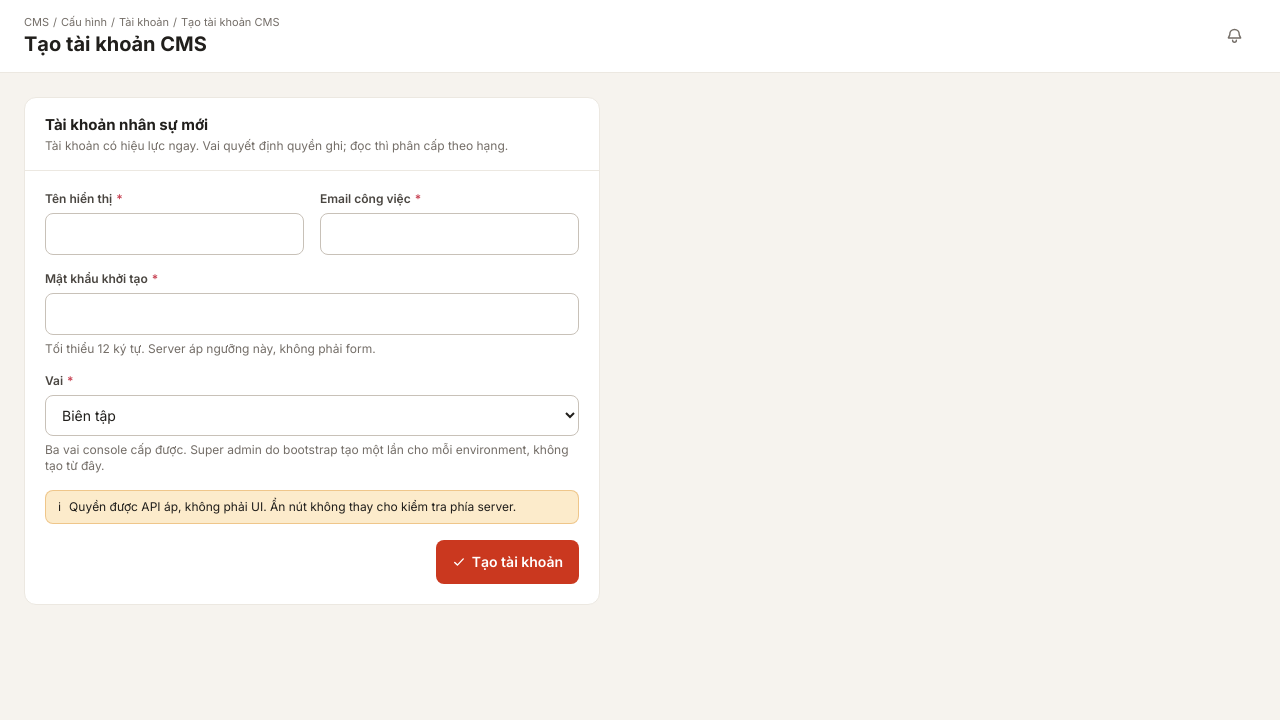
it: NewAccountScreen (CMS-020) › holds a short password at the form before it reaches the server
In the field labelled "Tên hiển thị*": (174, 234) x1=45 y1=213 x2=304 y2=255, type "Vy Vo"
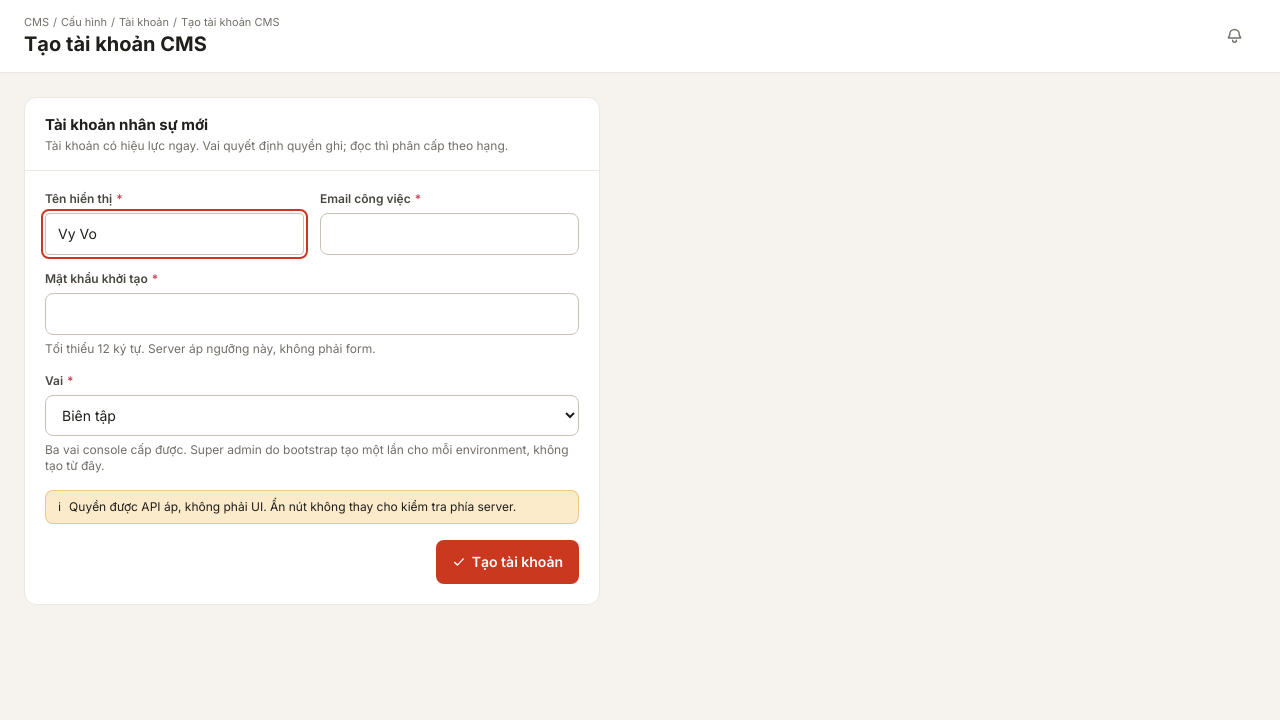
In the field labelled "Email công việc*": (450, 234) x1=320 y1=213 x2=579 y2=255, type "vy.vo@gogo.vn"
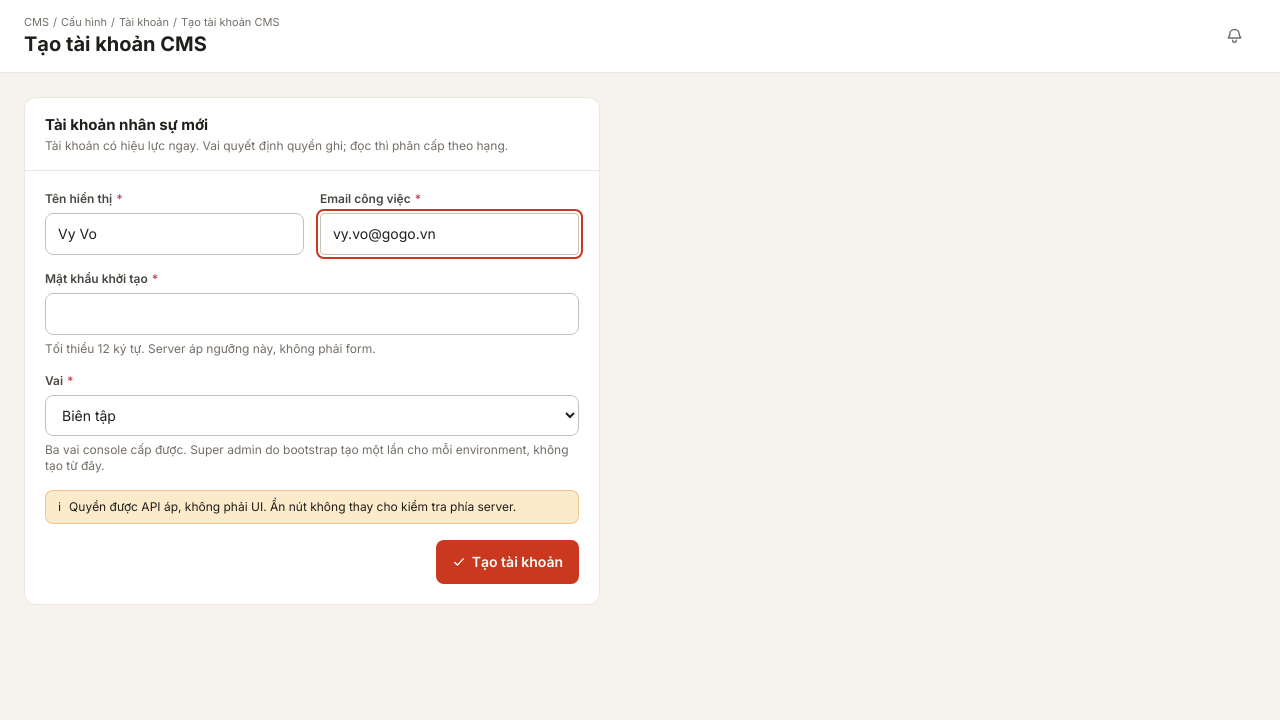
In the password field labelled "Mật khẩu khởi tạo*": (312, 314) x1=45 y1=293 x2=579 y2=335, type "short"
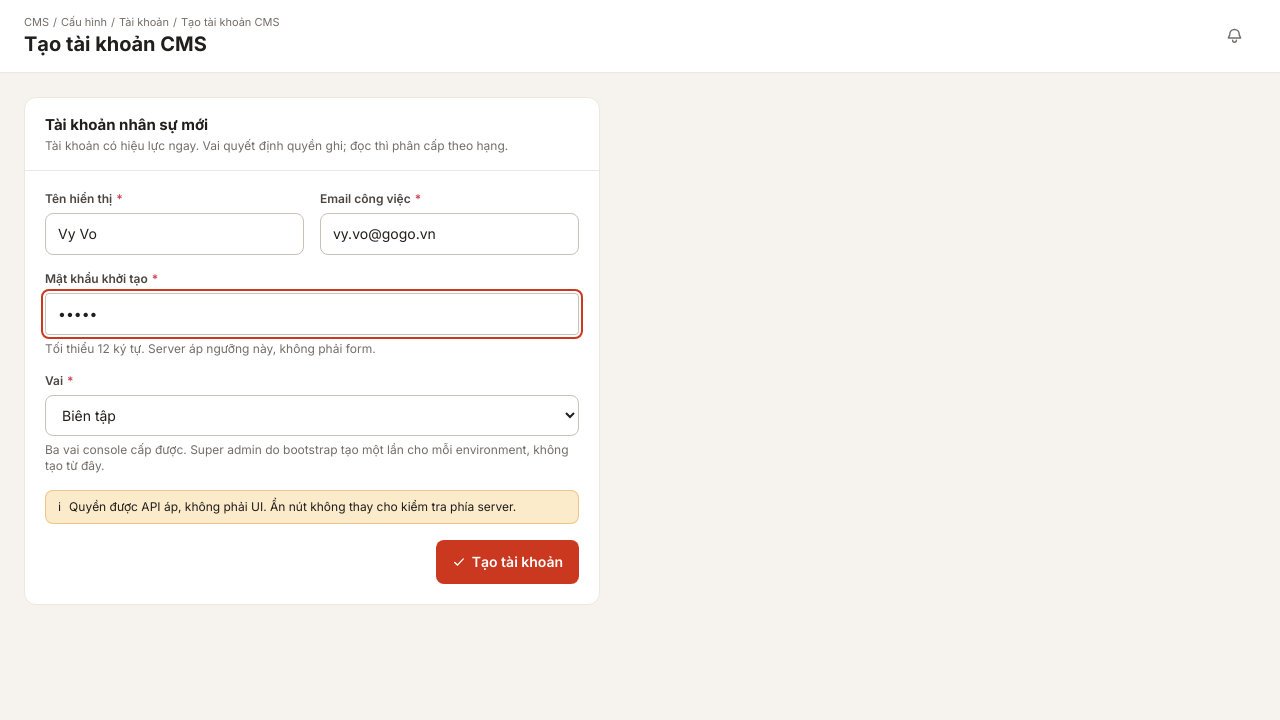
Click the button "Tạo tài khoản": (507, 562) x1=436 y1=540 x2=579 y2=584
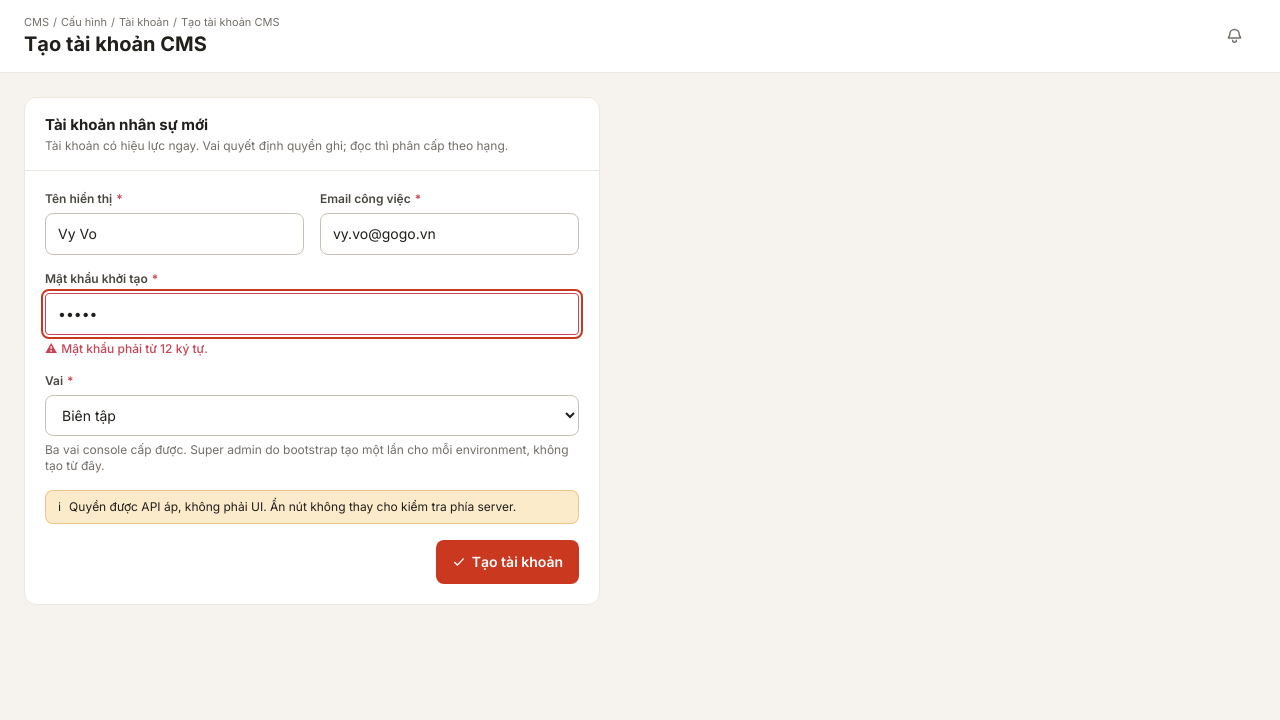
Check: the text "Mật khẩu phải từ 12 ký tự." is shown, box x1=61 y1=341 x2=208 y2=356
